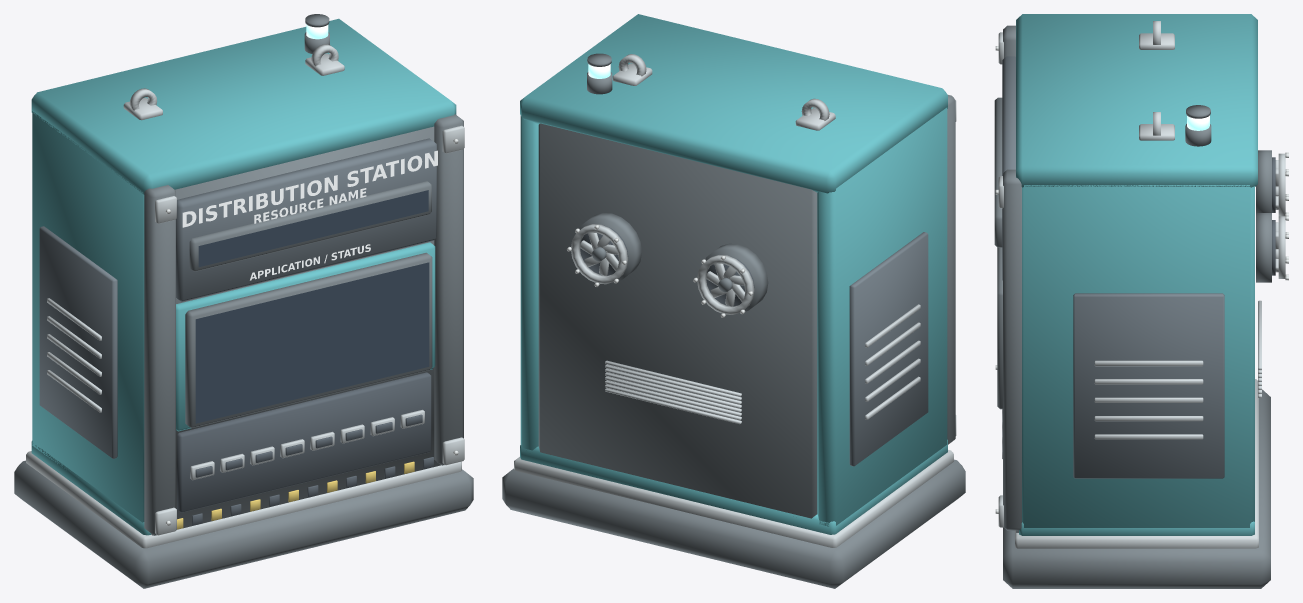
The model's file is distribution_station_standard.glb.
3 renders of one model, left to right at view 1: azimuth 30°, elevation 25°; view 2: azimuth 150°, elevation 25°; view 3: azimuth 270°, elevation 25°, orthographic. The views are drawn at different scales.
Visible parts, largest first — view 1: Roof_teal, LiveViewSurface_glass, SideWall_teal, CornerPost_frame, Skid_frame, PatchPanel_black, FrontHeader_graphite, SideServicePanel_graphite, SealFront_frame, SkidDeck_steel, LiveViewSurfaceFrame_frame, ResourceNameSurface_glass (+13 smaller); view 2: BackWall_frame, Roof_teal, SideWall_teal, Skid_frame, SideServicePanel_graphite, SkidDeck_steel, KickPlate_teal, RearFan_steel, RearVent_steel, CornerPost_frame, RearFan_frame, SideLouver_steel (+3 smaller); view 3: SideWall_teal, Roof_teal, SideServicePanel_graphite, Skid_frame, CornerPost_frame, SkidDeck_steel, SideLouver_steel, RearFan_frame, KickPlate_teal, FrontHeader_graphite, RearFan_steel, ResourceNameSurfaceFrame_frame (+6 smaller).
Part boxes in pixels (<box>): Roof_teal: <box>31,18,456,194</box>; LiveViewSurface_glass: <box>195,262,429,423</box>; SideWall_teal: <box>32,111,144,522</box>; CornerPost_frame: <box>144,114,463,535</box>; Skid_frame: <box>14,460,473,588</box>; PatchPanel_black: <box>177,372,431,512</box>; FrontHeader_graphite: <box>176,138,436,301</box>; SideServicePanel_graphite: <box>39,226,117,458</box>; SealFront_frame: <box>151,126,440,535</box>; SkidDeck_steel: <box>26,451,461,548</box>; LiveViewSurfaceFrame_frame: <box>185,252,432,428</box>; ResourceNameSurface_glass: <box>198,190,428,267</box>; BackWall_frame: <box>538,123,817,518</box>; Roof_teal: <box>520,14,947,193</box>; SideWall_teal: <box>520,107,947,526</box>; Skid_frame: <box>502,459,965,588</box>; SideServicePanel_graphite: <box>849,232,928,466</box>; SkidDeck_steel: <box>514,450,953,547</box>; KickPlate_teal: <box>520,439,947,534</box>; RearFan_steel: <box>571,224,754,314</box>; RearVent_steel: <box>605,360,741,424</box>; CornerPost_frame: <box>947,95,955,444</box>; RearFan_frame: <box>579,213,768,313</box>; SideLouver_steel: <box>865,304,920,419</box>; SideWall_teal: <box>1022,185,1254,527</box>; Roof_teal: <box>1016,14,1257,187</box>; SideServicePanel_graphite: <box>1073,293,1224,478</box>; Skid_frame: <box>1003,389,1270,588</box>; CornerPost_frame: <box>1003,25,1021,530</box>; SkidDeck_steel: <box>1015,379,1258,548</box>; SideLouver_steel: <box>1094,360,1203,439</box>; RearFan_frame: <box>1256,150,1271,282</box>; KickPlate_teal: <box>1019,521,1254,535</box>; FrontHeader_graphite: <box>1002,56,1015,280</box>; RearFan_steel: <box>1275,153,1285,278</box>; ResourceNameSurfaceFrame_frame: <box>994,97,1002,247</box>.
Bounding box in the file's own units: 2 × 2.48 × 1.47.
